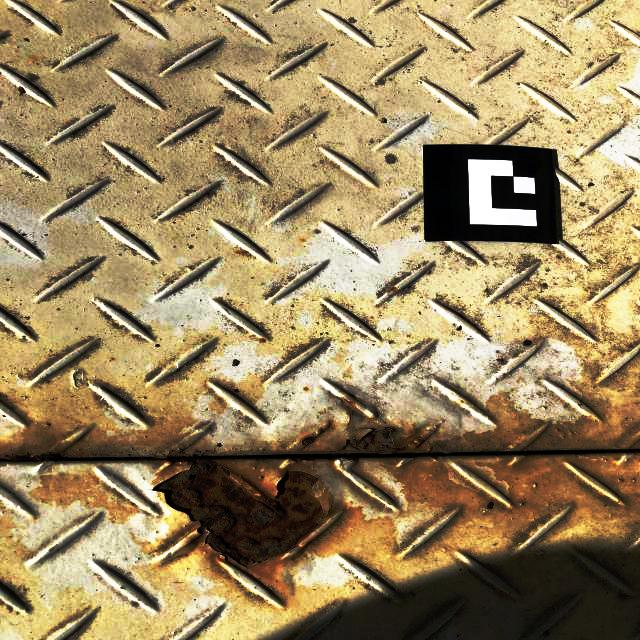Corrosion: (153, 460, 324, 568), (344, 422, 443, 454), (160, 454, 202, 465), (301, 435, 317, 446)
